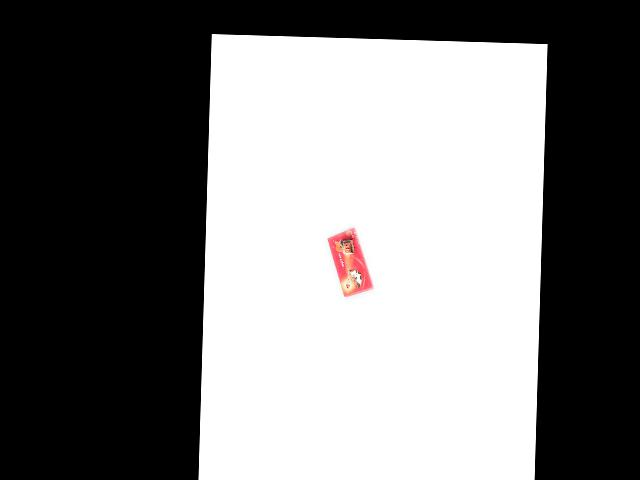chocolate: (324, 225, 375, 296)
